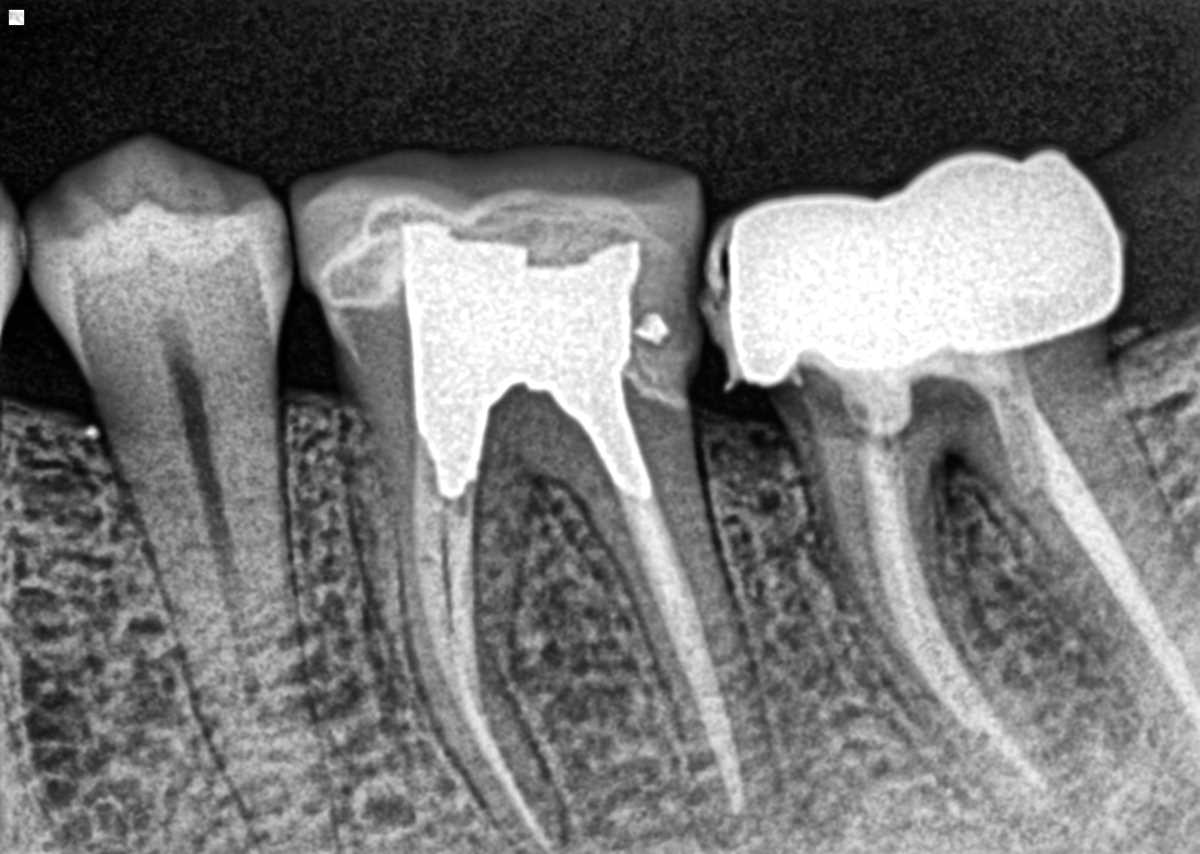Distal Root: (955, 349, 1197, 788), (542, 400, 778, 841)
Main Canal: (185, 431, 275, 761)
Main Root: (103, 406, 340, 850)
Mesial Root: (770, 413, 1060, 816), (346, 412, 565, 854)
Root Canal Filling: (863, 428, 1053, 799), (990, 383, 1191, 700), (589, 427, 746, 820), (444, 442, 551, 852), (416, 436, 472, 735)
